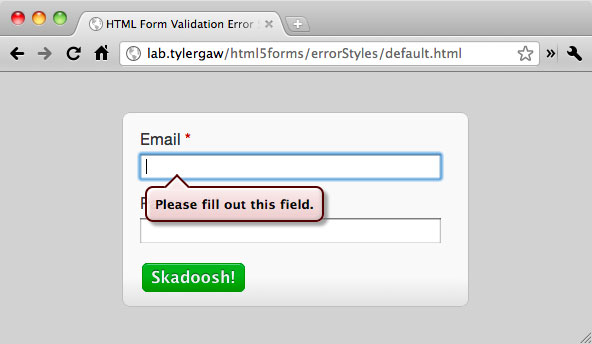error_message: (154, 195, 312, 211)
